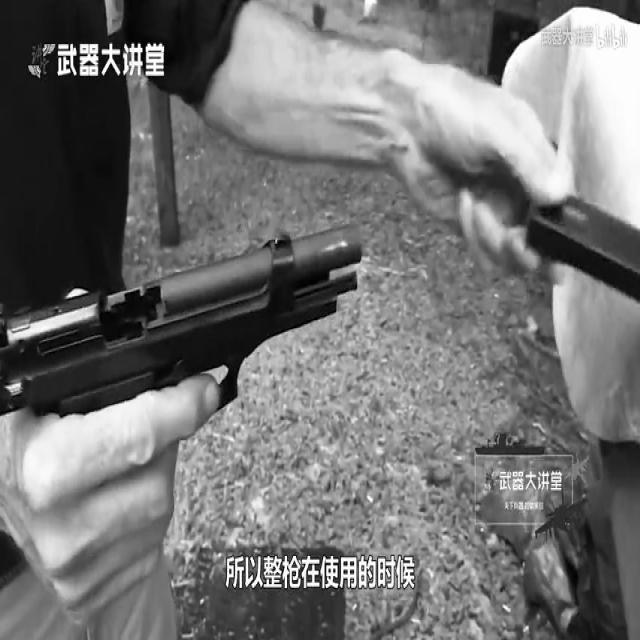Hand-Gun: (0, 126, 375, 640)
